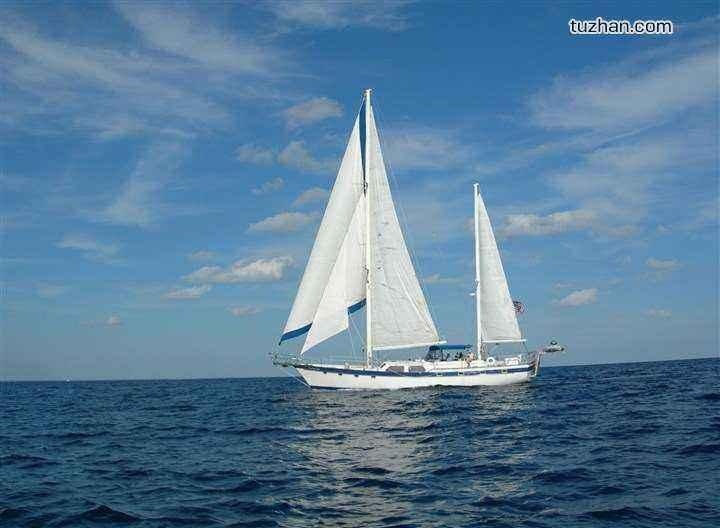fanchuan: (273, 90, 536, 388)
